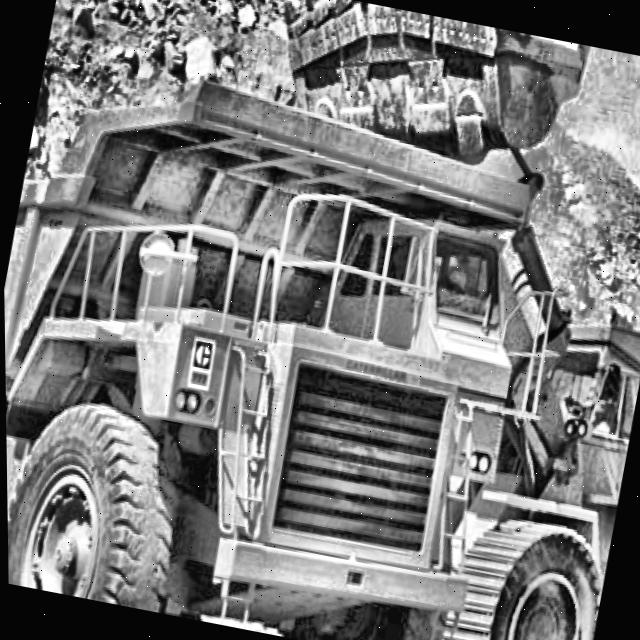buldozerpayloadergrader: (165, 0, 640, 640)
dump_truck: (0, 37, 541, 640)
